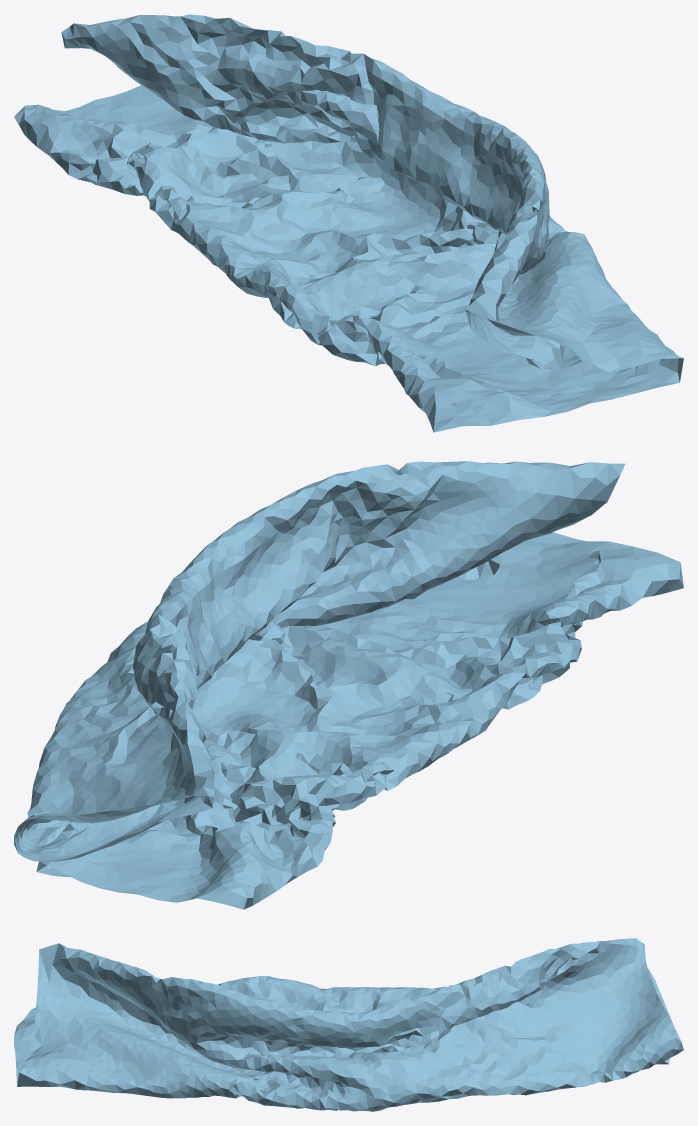
The model's file is frame_19.glb.
3 views of the same model, one above another, from view 1: azimuth 30°, elevation 25°; view 2: azimuth 150°, elevation 25°; view 3: azimuth 270°, elevation 25° (orthographic). The views are drawn at different scales.
Parts seen in each view (by area): view 1: frame_19.obj; view 2: frame_19.obj; view 3: frame_19.obj.
Part boxes in pixels (x1,y1,x2,y2): frame_19.obj: (14,14,683,432); frame_19.obj: (14,461,683,909); frame_19.obj: (14,938,683,1111).
Size of the model in its own units: 0.7277 by 0.306 by 1.77.
